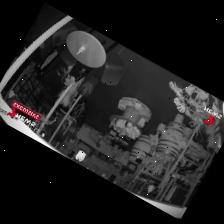person: (89, 128, 103, 147)
